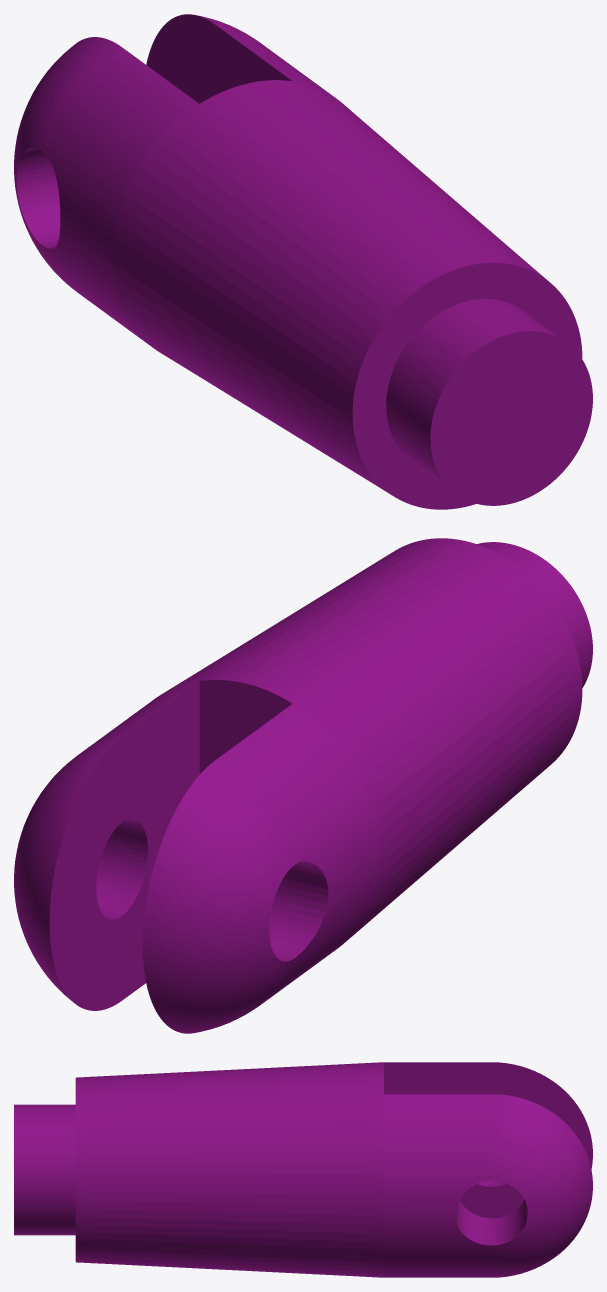
3 views of the same model, one above another, from view 1: azimuth 30°, elevation 25°; view 2: azimuth 150°, elevation 25°; view 3: azimuth 270°, elevation 25° (orthographic). The views are drawn at different scales.
Parts seen in each view (by area): view 1: node; view 2: node; view 3: node.
Part boxes in pixels (<box>): node: <box>14,14,592,509</box>; node: <box>14,538,592,1033</box>; node: <box>14,1062,592,1277</box>.
Bounding box in the file's own units: 0.0524 × 0.0524 × 0.1408.
